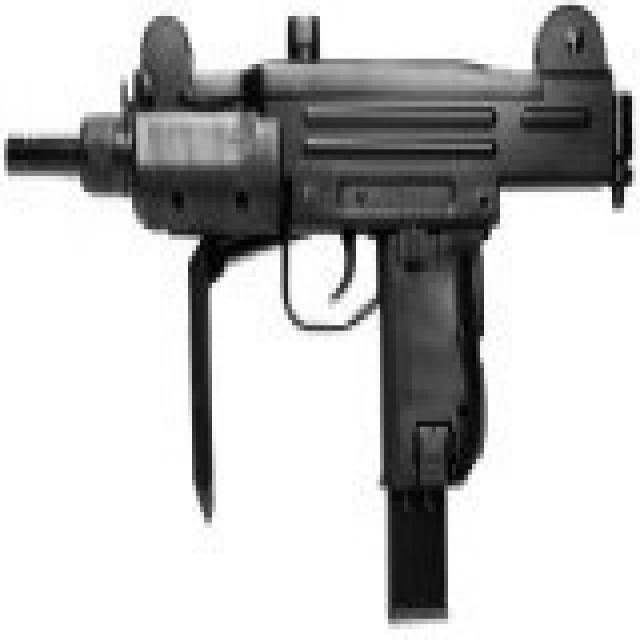Gun: (4, 0, 640, 603)
